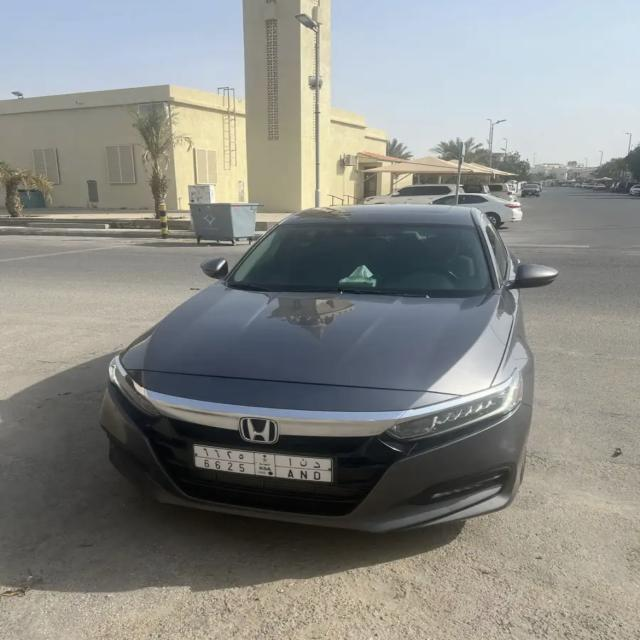license_plate: (194, 442, 333, 484)
